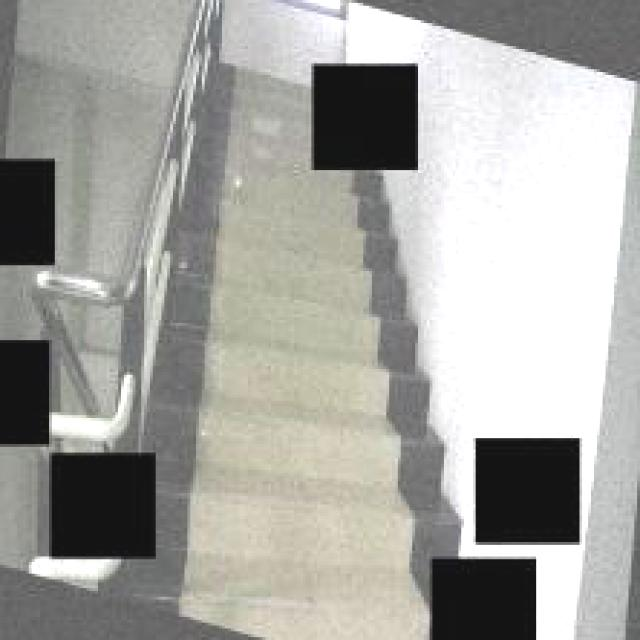upstair: (189, 171, 382, 549)
